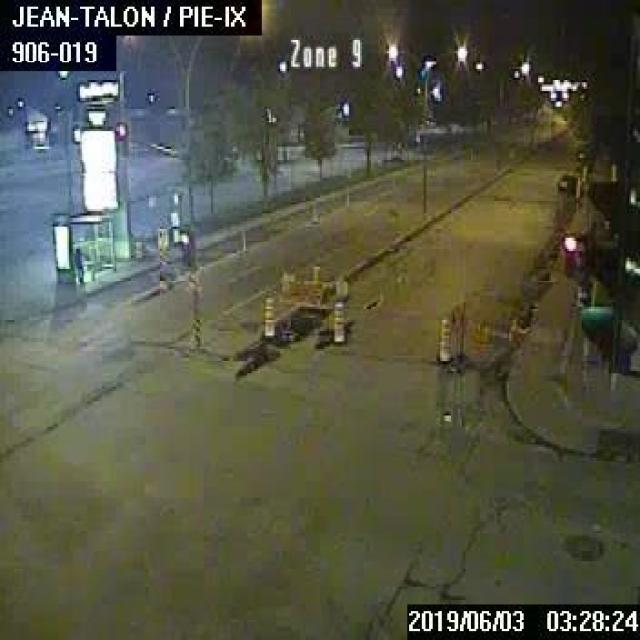construction: (448, 298, 524, 374), (274, 264, 347, 339), (259, 290, 274, 336), (434, 318, 450, 361), (330, 300, 344, 342)
pedestrian: (72, 247, 84, 281)
